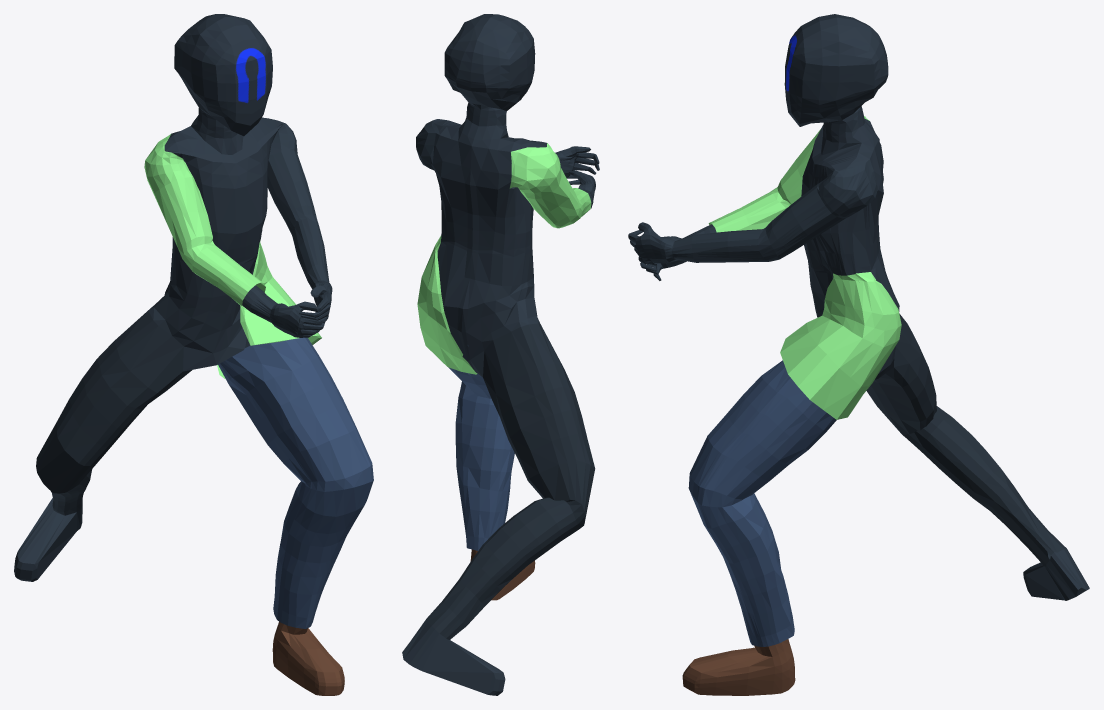
The model's file is Mar_WB_000009.obj.
3 views of the same model, side by side, from view 1: azimuth 30°, elevation 25°; view 2: azimuth 150°, elevation 25°; view 3: azimuth 270°, elevation 25° (orthographic). The views are drawn at different scales.
Visible parts, largest first — view 1: Cube.000_Cube.001; view 2: Cube.000_Cube.001; view 3: Cube.000_Cube.001.
Part boxes in pixels (bbox=[...]): Cube.000_Cube.001: bbox=[14, 14, 373, 695]; Cube.000_Cube.001: bbox=[402, 14, 599, 695]; Cube.000_Cube.001: bbox=[628, 14, 1089, 695].
Size of the model in its own units: 1.33 by 3.54 by 2.27.
